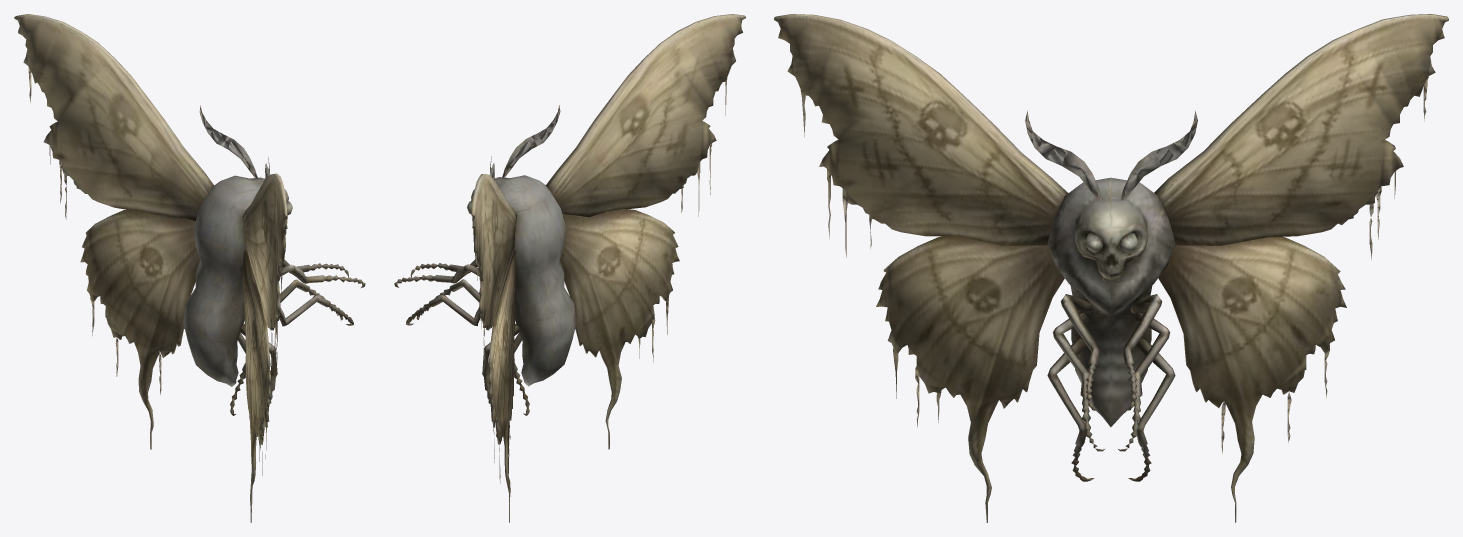
Rendered from shroud_moth.glb.
3 views of the same model, side by side, from view 1: azimuth 30°, elevation 25°; view 2: azimuth 150°, elevation 25°; view 3: azimuth 270°, elevation 25° (orthographic). The views are drawn at different scales.
Parts seen in each view (by area): view 1: tripo_node_2df6b711-fc8e-414a-ad1c-2a9eb38d8467; view 2: tripo_node_2df6b711-fc8e-414a-ad1c-2a9eb38d8467; view 3: tripo_node_2df6b711-fc8e-414a-ad1c-2a9eb38d8467.
Boxes of the visible parts, x1,y1,x2,y2 form: tripo_node_2df6b711-fc8e-414a-ad1c-2a9eb38d8467: [14, 14, 365, 522]; tripo_node_2df6b711-fc8e-414a-ad1c-2a9eb38d8467: [394, 14, 745, 522]; tripo_node_2df6b711-fc8e-414a-ad1c-2a9eb38d8467: [774, 14, 1448, 522].
Size of the model in its own units: 0.4395 by 0.791 by 0.998.
1 material, 1 textured.
